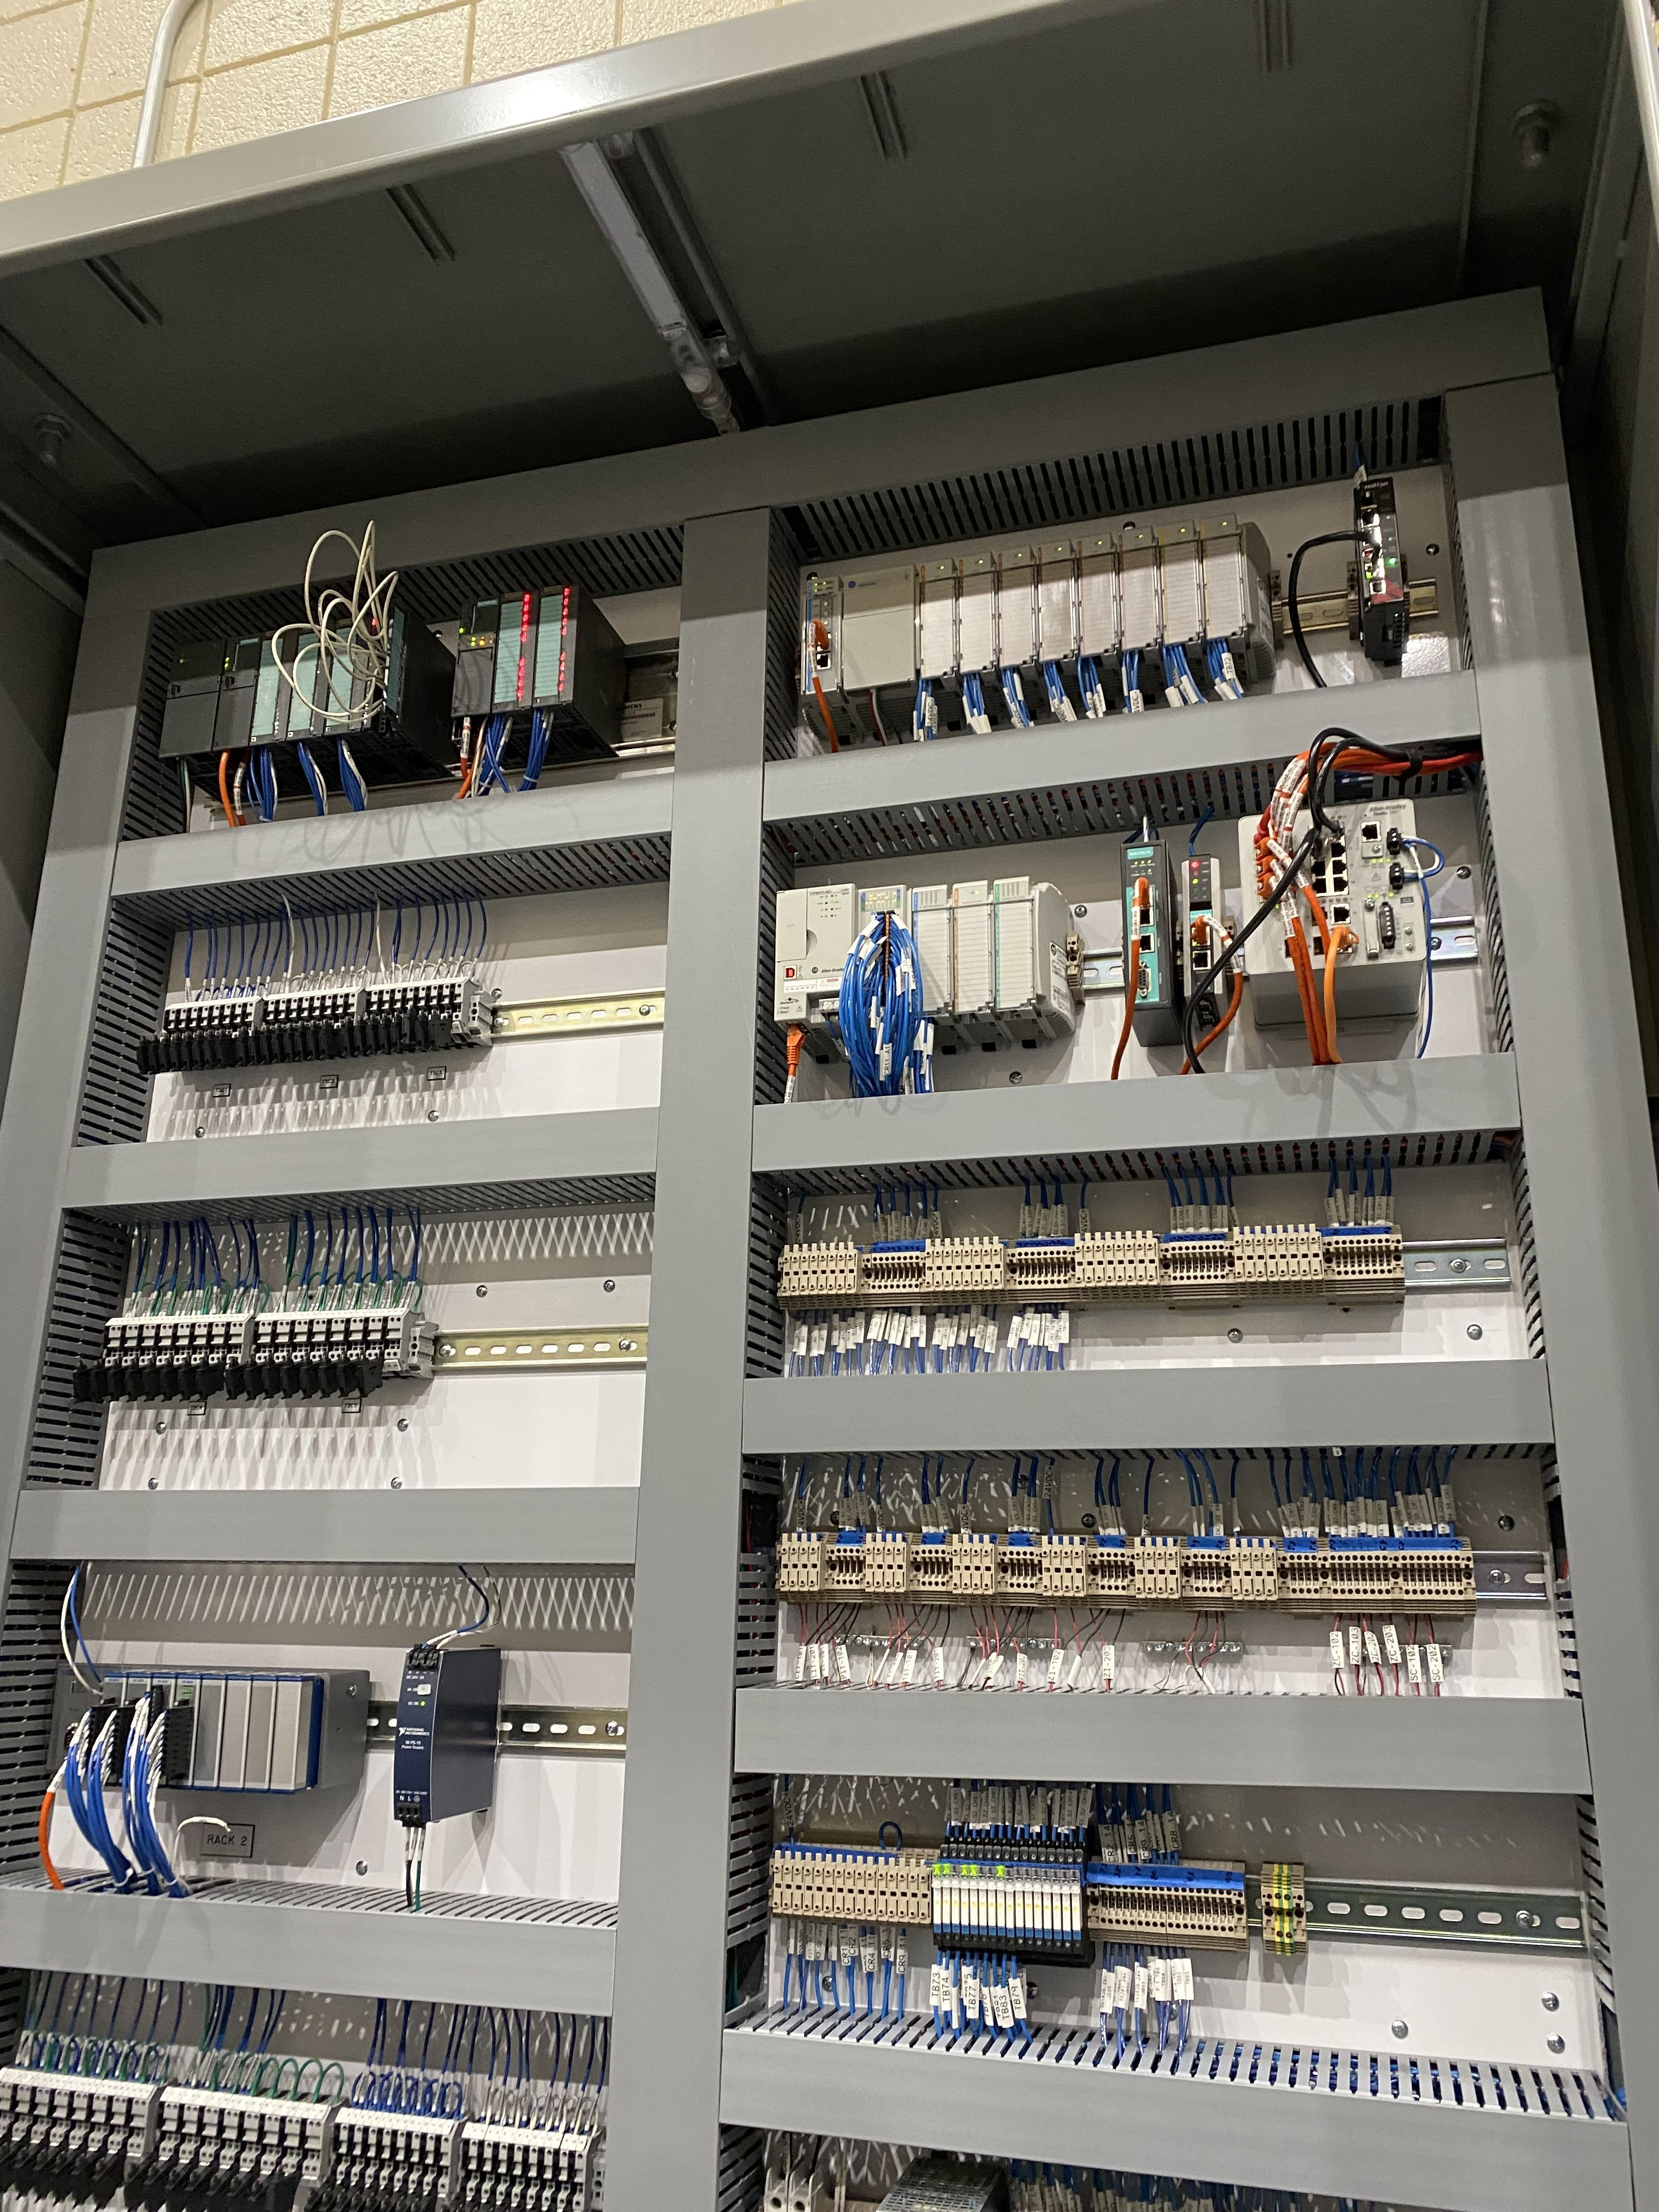AllenBradley: (770, 880, 859, 1028)
Siemens: (207, 631, 267, 754)
